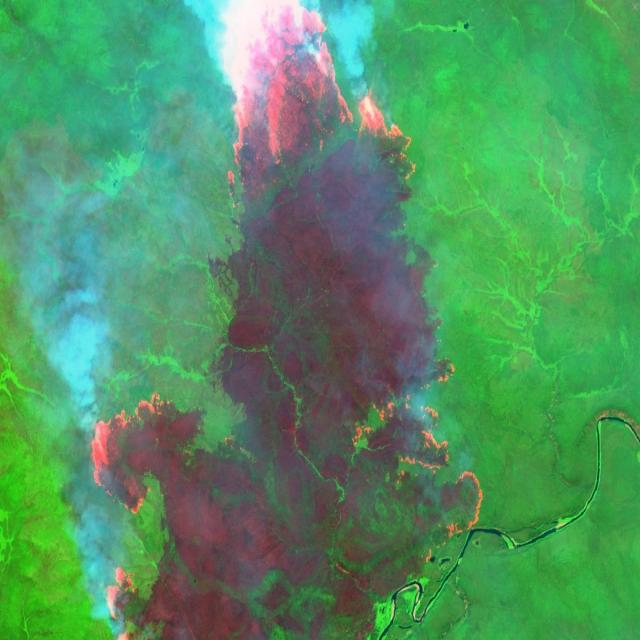fire: (207, 0, 420, 208), (343, 348, 488, 553), (80, 384, 182, 640)
